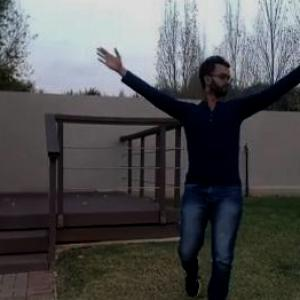takeoff: (81, 42, 300, 299)
